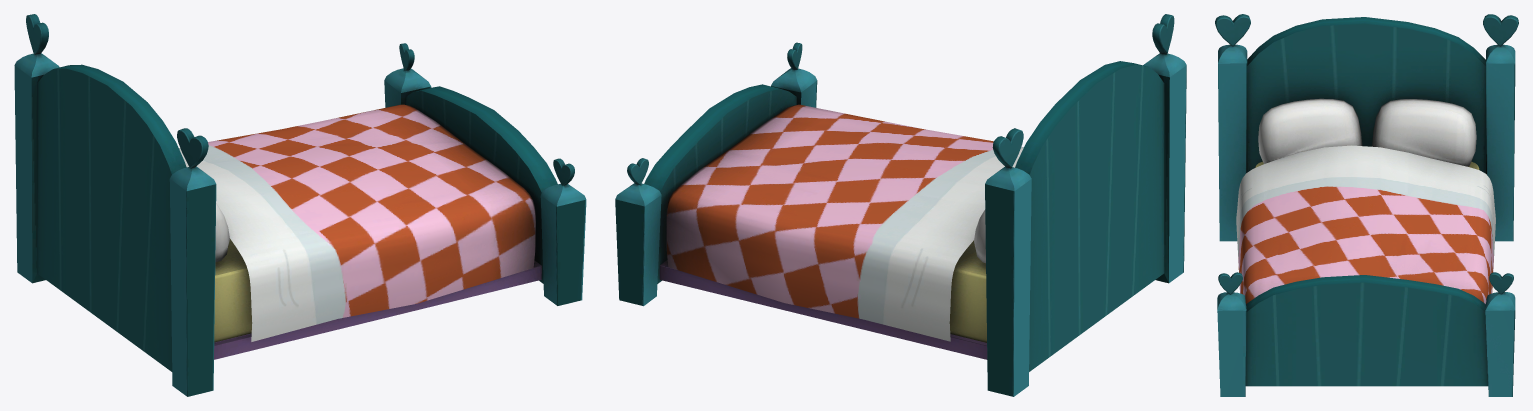
Rendered from bed.glb.
3 renders of one model, left to right at view 1: azimuth 30°, elevation 25°; view 2: azimuth 150°, elevation 25°; view 3: azimuth 270°, elevation 25°, orthographic. The views are drawn at different scales.
Visible parts, largest first — view 1: fc_b_bed.smd; view 2: fc_b_bed.smd; view 3: fc_b_bed.smd.
Part boxes in pixels (bbox=[...]): fc_b_bed.smd: bbox=[14, 14, 586, 396]; fc_b_bed.smd: bbox=[615, 14, 1186, 396]; fc_b_bed.smd: bbox=[1215, 14, 1518, 396].
Size of the model in its own units: 2.56 by 1.56 by 1.95.
1 material, 1 textured.
